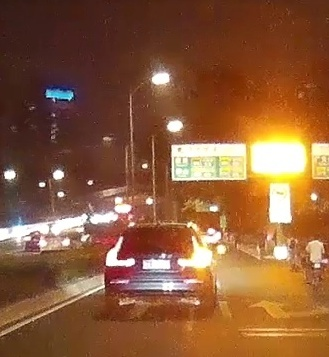L_light: (105, 235, 135, 267)
R_light: (178, 236, 209, 268)
T_light: (150, 228, 164, 232)
night-right: (104, 223, 212, 313)
